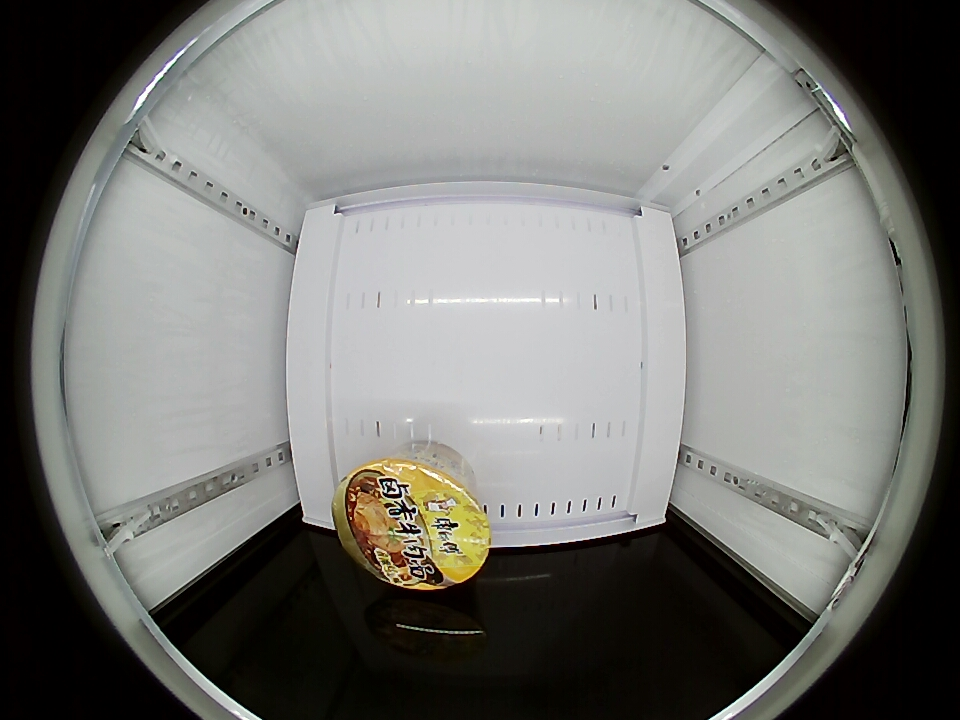luxiangniurou: (333, 456, 491, 590)
